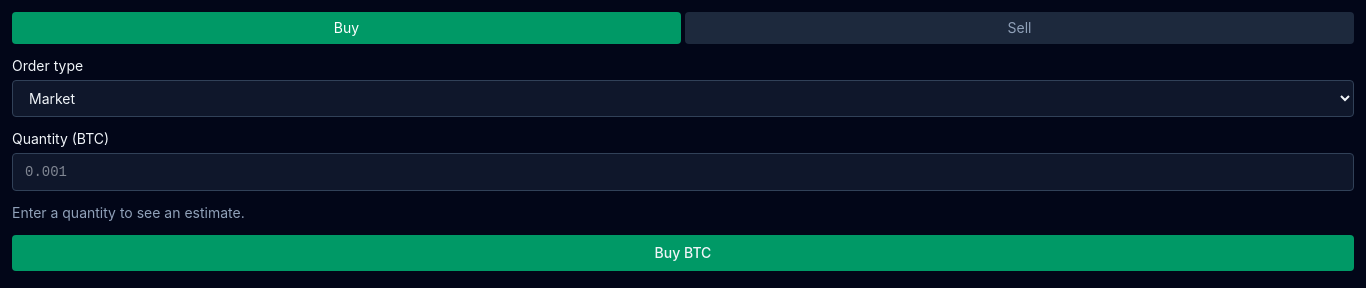
Scenario: OrderForm › shows a live estimate from the book
Type "1.5" into the field labelled "Quantity (BTC)" at {"x": 683, "y": 172}, box [12,153,1354,191]
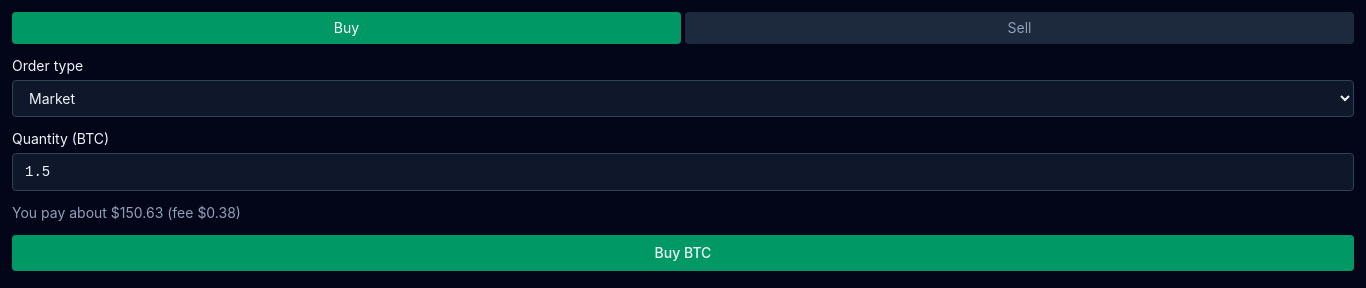
Result: the text with test id "estimate" reads "You pay about $150.63 (fee $0.38)" at [12,204,241,221]
